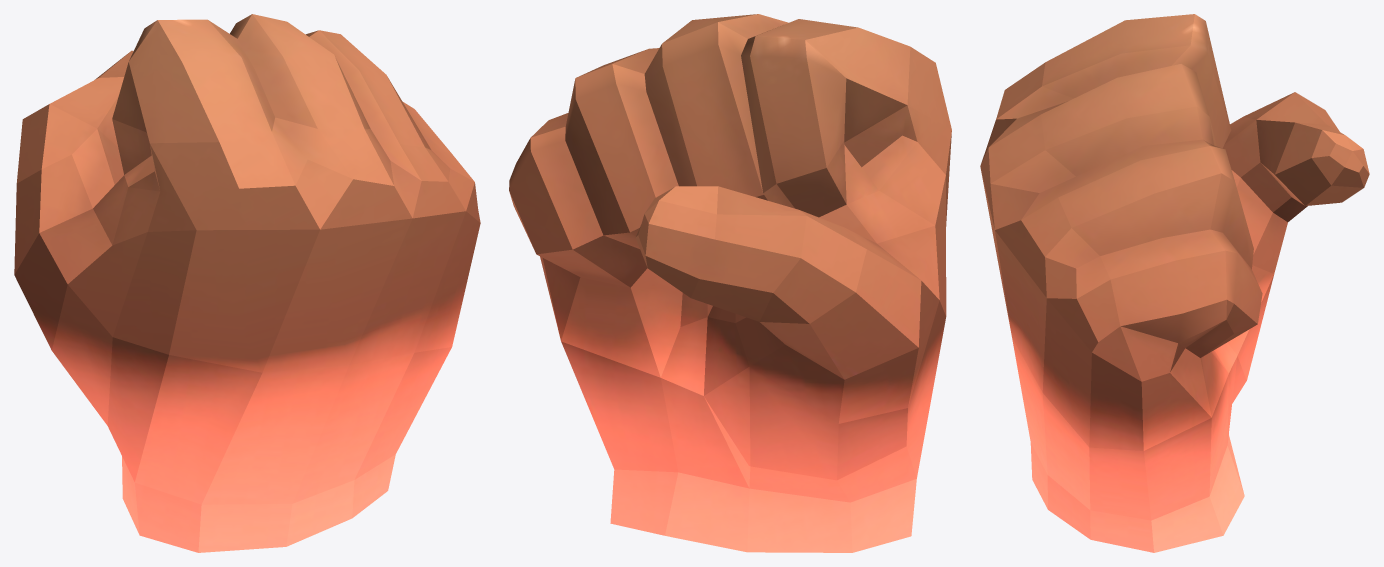
The model's file is fist.glb.
The picture shows the model from 3 angles, left to right: view 1: azimuth 30°, elevation 25°; view 2: azimuth 150°, elevation 25°; view 3: azimuth 270°, elevation 25°; orthographic projection. The views are drawn at different scales.
Visible parts, largest first — view 1: fist; view 2: fist; view 3: fist.
Boxes of the visible parts, x1,y1,x2,y2 form: fist: [14, 14, 480, 552]; fist: [509, 14, 951, 552]; fist: [980, 14, 1369, 552].
Bounding box in the file's own units: 3.25 × 3.66 × 2.87.
Materials: 1 (1 with a texture image).
